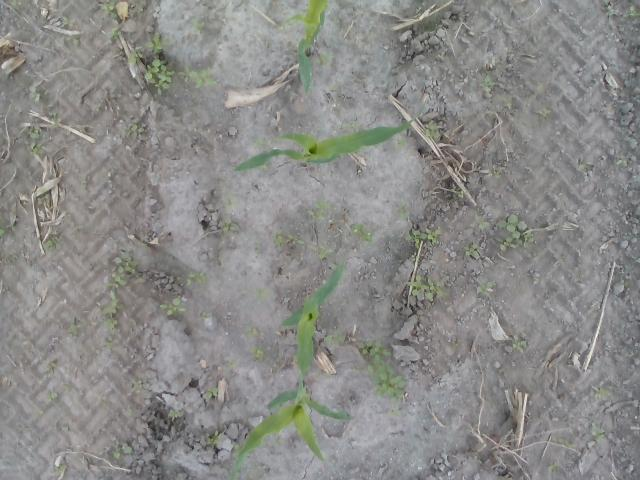Maize: (228, 377, 355, 480), (229, 114, 419, 174), (280, 261, 346, 380), (296, 0, 330, 99)
Weeds: (358, 339, 408, 400), (494, 212, 535, 251), (407, 271, 450, 302), (95, 288, 123, 334), (104, 255, 139, 288), (144, 60, 176, 96), (176, 63, 220, 88), (270, 222, 305, 248), (404, 224, 441, 247), (306, 239, 336, 264), (350, 223, 380, 248), (305, 198, 336, 222), (142, 32, 174, 54), (160, 296, 190, 318), (278, 12, 304, 32), (0, 214, 17, 241), (184, 270, 208, 289), (96, 0, 118, 20), (244, 344, 268, 362), (22, 125, 44, 144), (615, 271, 634, 290), (126, 46, 144, 66), (110, 446, 134, 460), (592, 422, 606, 446), (222, 218, 240, 236), (222, 191, 240, 209), (478, 280, 496, 298), (313, 47, 331, 65), (125, 121, 146, 136), (30, 88, 47, 105), (512, 334, 528, 352), (322, 334, 346, 346), (207, 430, 224, 446), (464, 242, 481, 258), (399, 198, 411, 220), (479, 75, 496, 90), (191, 16, 205, 34), (254, 288, 272, 302), (42, 240, 60, 253), (594, 386, 609, 401), (426, 120, 438, 138), (241, 326, 260, 337), (538, 107, 554, 120), (612, 155, 628, 168), (476, 220, 492, 233), (254, 136, 271, 148), (624, 6, 640, 18), (167, 408, 184, 419), (206, 387, 219, 401), (54, 463, 68, 476), (48, 110, 62, 123), (130, 380, 144, 393), (78, 174, 88, 192), (66, 34, 81, 46), (432, 50, 448, 61), (127, 400, 137, 417), (110, 26, 122, 40), (30, 144, 44, 156), (46, 360, 56, 376), (62, 16, 78, 26), (68, 324, 81, 336), (389, 403, 401, 416), (578, 160, 592, 171), (47, 388, 59, 400), (104, 336, 114, 350), (564, 440, 578, 449), (548, 463, 560, 473), (489, 169, 502, 178), (344, 120, 358, 128), (228, 359, 238, 370), (453, 190, 464, 200), (272, 439, 288, 445), (10, 0, 22, 8), (138, 237, 148, 246), (328, 82, 337, 92), (63, 382, 72, 392), (23, 72, 32, 80), (200, 311, 208, 320), (411, 251, 418, 261), (400, 138, 410, 145), (320, 127, 330, 133), (230, 444, 240, 450), (306, 131, 316, 136), (344, 398, 352, 404), (250, 459, 256, 465)
